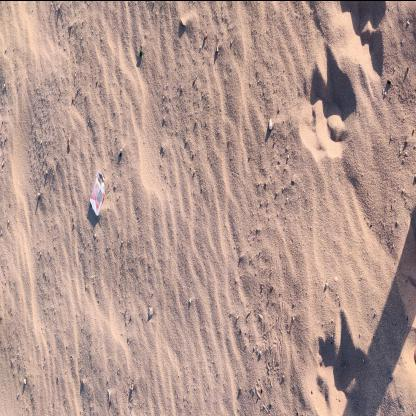karton: (90, 171, 106, 216)
